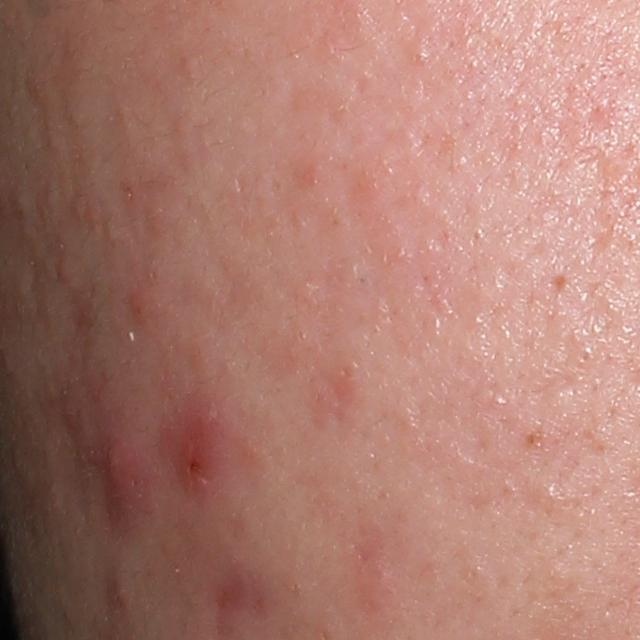papule: (177, 391, 231, 488), (105, 426, 143, 525), (129, 289, 150, 324), (56, 262, 78, 288)
